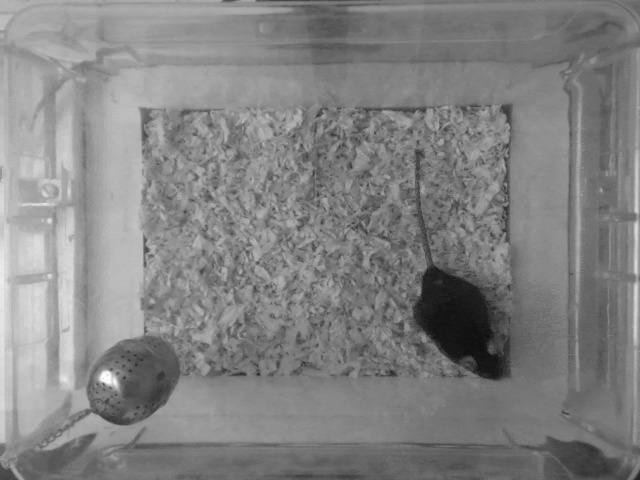mice: (410, 149, 511, 383)
